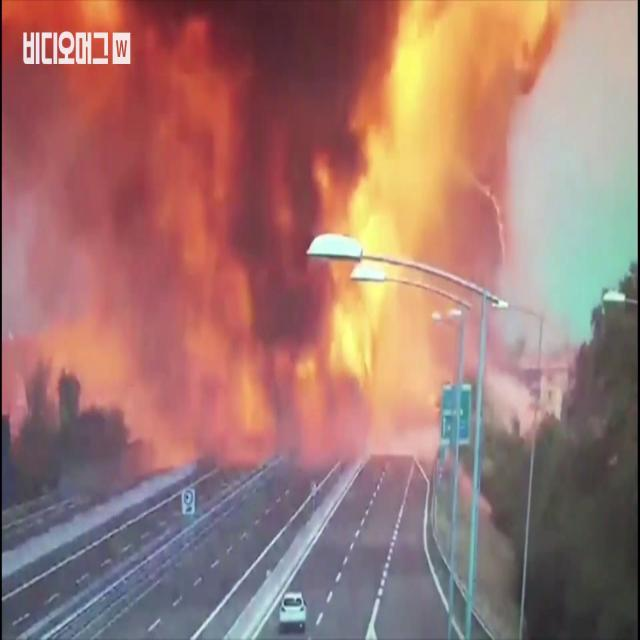explosion: (4, 1, 600, 483)
